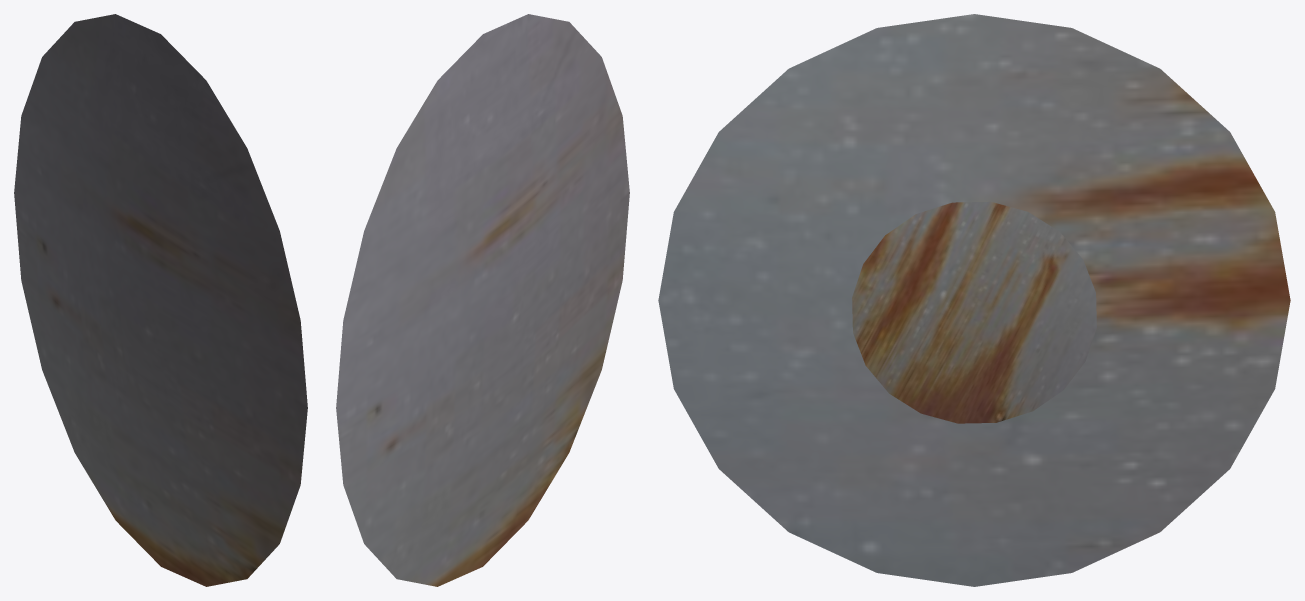
The model's file is WindmillCircle.fbx.
3 views of the same model, side by side, from view 1: azimuth 30°, elevation 25°; view 2: azimuth 150°, elevation 25°; view 3: azimuth 270°, elevation 25° (orthographic). The views are drawn at different scales.
Parts seen in each view (by area): view 1: pCylinder8; view 2: pCylinder8; view 3: pCylinder8, pCylinder9.
Part boxes in pixels (left/top/right/bottom): pCylinder8: left=14, top=14, right=307, bottom=586; pCylinder8: left=336, top=14, right=629, bottom=586; pCylinder8: left=658, top=14, right=1290, bottom=586; pCylinder9: left=852, top=201, right=1096, bottom=423.
Size of the model in its own units: 0.1744 by 1.59 by 1.59.
